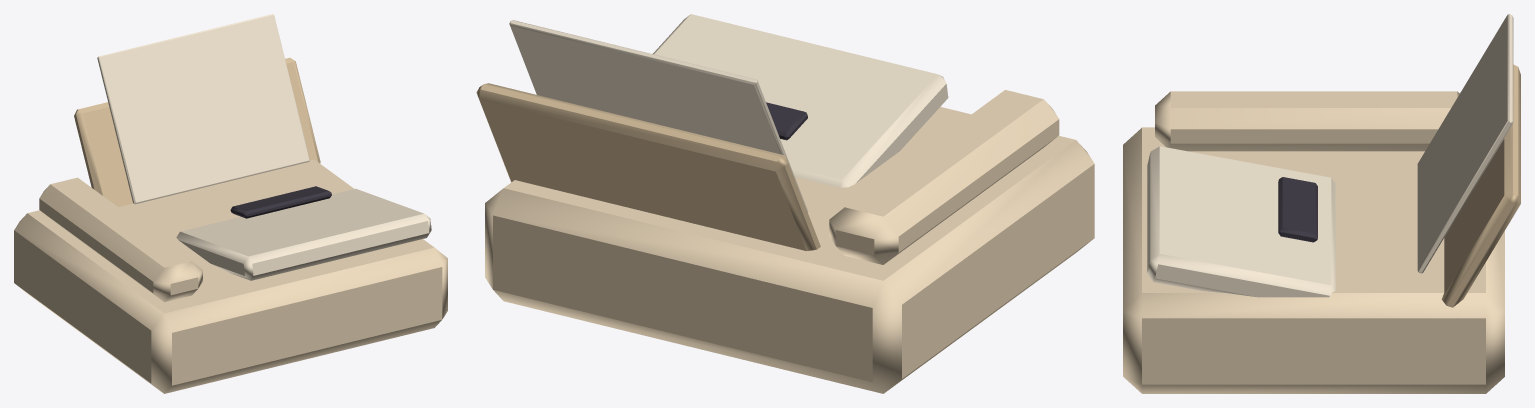
The model's file is era_fax.glb.
The picture shows the model from 3 angles, left to right: view 1: azimuth 30°, elevation 25°; view 2: azimuth 150°, elevation 25°; view 3: azimuth 270°, elevation 25°; orthographic projection. The views are drawn at different scales.
Visible parts, largest first — view 1: era_fax; view 2: era_fax; view 3: era_fax.
Boxes of the visible parts, bbox=[...] form: era_fax: bbox=[14, 14, 447, 393]; era_fax: bbox=[476, 14, 1094, 393]; era_fax: bbox=[1123, 14, 1520, 393].
Size of the model in its own units: 0.27 by 0.1831 by 0.2499.
